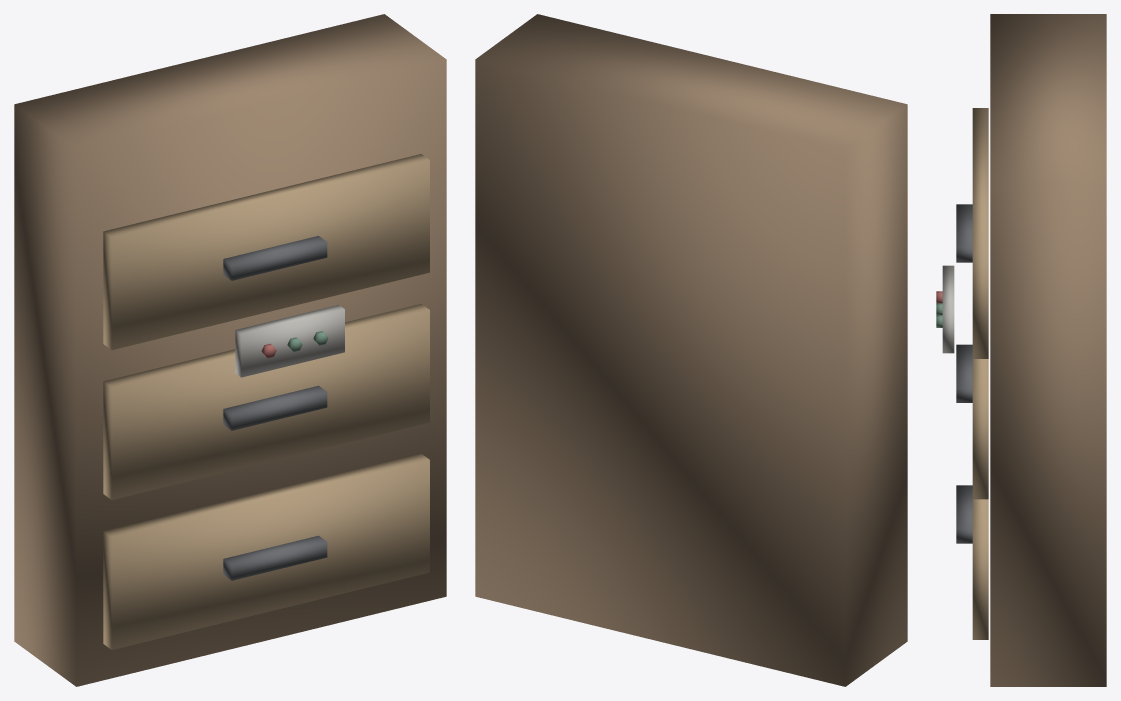
The model's file is medicine_cabinet.glb.
3 renders of one model, left to right at view 1: azimuth 30°, elevation 25°; view 2: azimuth 150°, elevation 25°; view 3: azimuth 270°, elevation 25°, orthographic. The views are drawn at different scales.
Visible parts, largest first — view 1: world; view 2: world; view 3: world.
Boxes of the visible parts, x1,y1,x2,y2 form: world: [14, 14, 446, 686]; world: [475, 14, 907, 686]; world: [936, 14, 1106, 686].
Bounding box in the file's own units: 0.62 × 0.86 × 0.2635.
